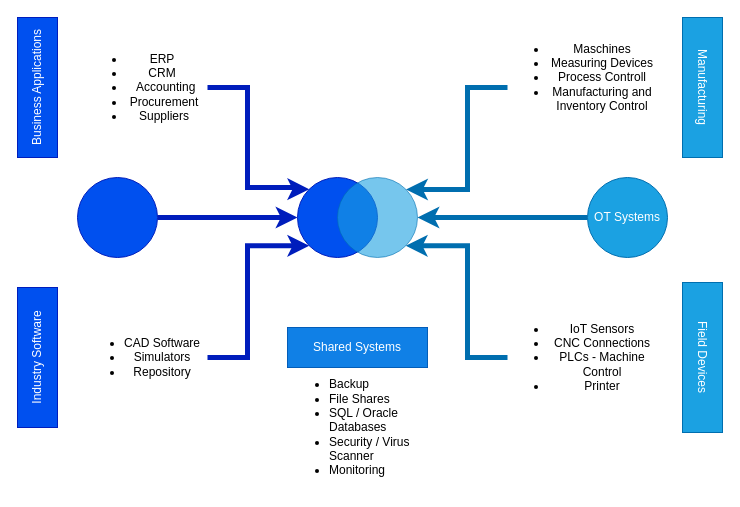
Image size: 740x507. Some labels were removed from this diagram. The shapes that lost their labels are listed below. From the top down, each one's centre as x and y in pixels, then its label:
point 117,217: IT Systems
point 377,217: IT - OT
